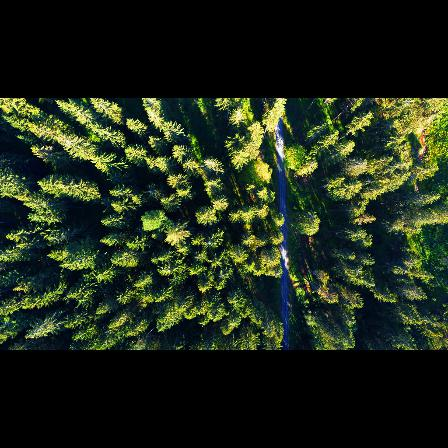Sick: (213, 266, 231, 284), (143, 182, 158, 201), (200, 234, 216, 246)
